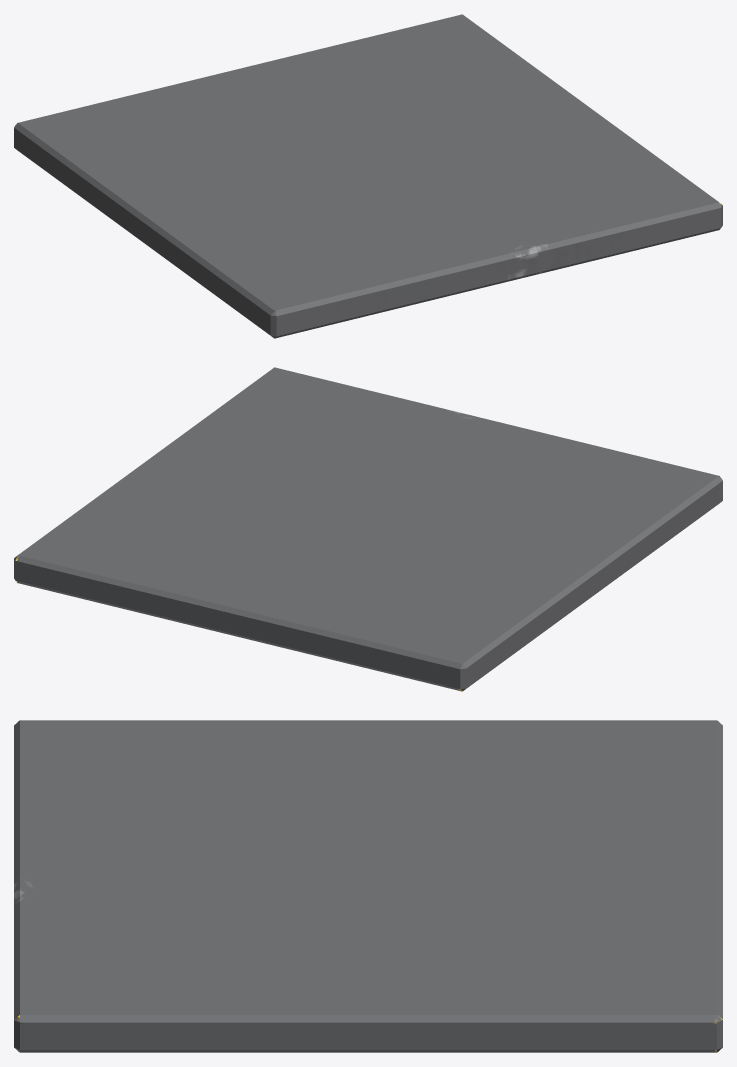
File: nodexeus-set-under-lamp.glb
3 renders of one model, top to bottom at view 1: azimuth 30°, elevation 25°; view 2: azimuth 150°, elevation 25°; view 3: azimuth 270°, elevation 25°, orthographic. The views are drawn at different scales.
Visible parts, largest first — view 1: set-under-lamp; view 2: set-under-lamp; view 3: set-under-lamp.
Part boxes in pixels (x1,y1,x2,y2): set-under-lamp: (14,14,722,338); set-under-lamp: (14,367,722,691); set-under-lamp: (14,720,722,1052).
Bounding box in the file's own units: 1.7 × 0.14 × 1.7.
Materials: 1 (1 with a texture image).
